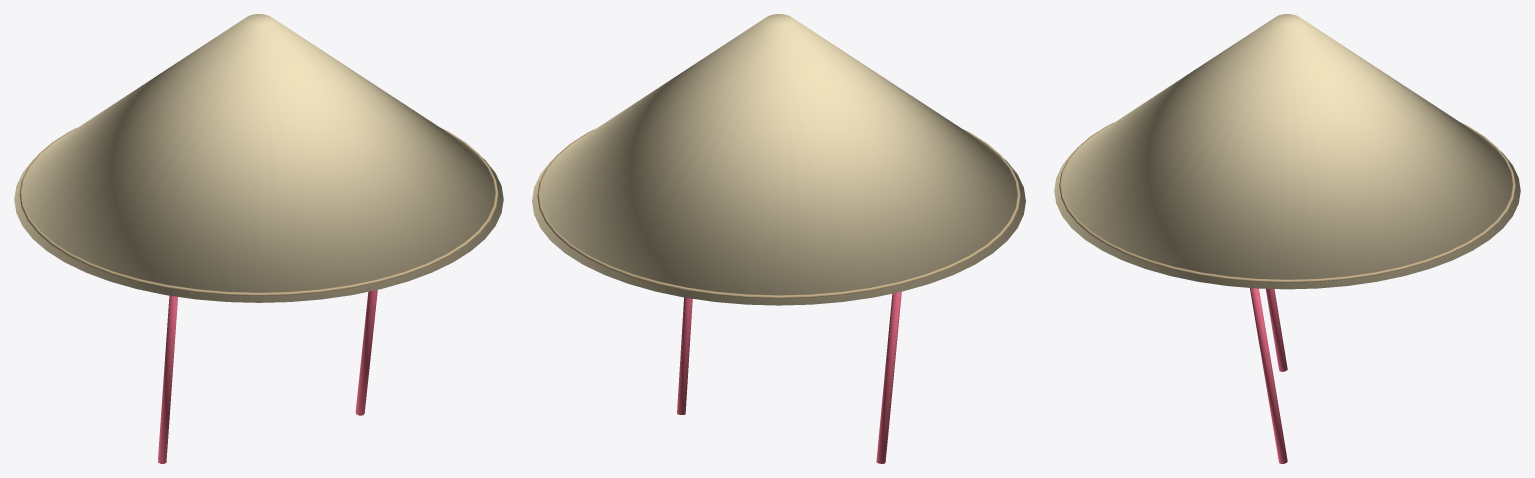
The model's file is non_la.glb.
The picture shows the model from 3 angles, left to right: view 1: azimuth 30°, elevation 25°; view 2: azimuth 150°, elevation 25°; view 3: azimuth 270°, elevation 25°; orthographic projection. The views are drawn at different scales.
Visible parts, largest first — view 1: non_la; view 2: non_la; view 3: non_la.
Boxes of the visible parts, bbox=[...] form: non_la: bbox=[14, 14, 503, 463]; non_la: bbox=[532, 14, 1025, 463]; non_la: bbox=[1054, 14, 1520, 463].
Size of the model in its own units: 0.42 by 0.3944 by 0.42.
